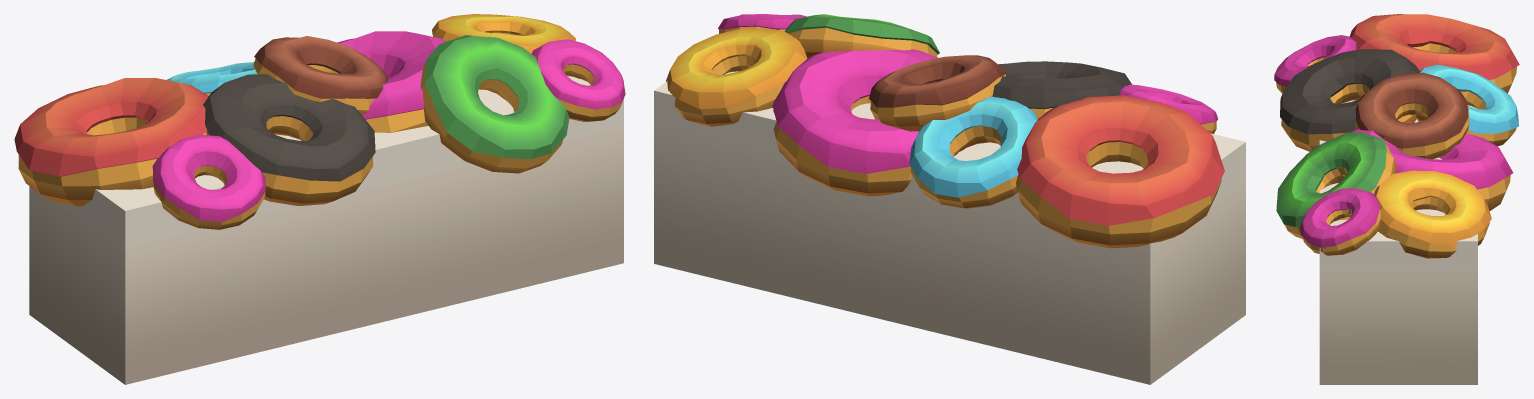
Rendered from itemDonut.fbx.
3 renders of one model, left to right at view 1: azimuth 30°, elevation 25°; view 2: azimuth 150°, elevation 25°; view 3: azimuth 270°, elevation 25°, orthographic. The views are drawn at different scales.
Visible parts, largest first — view 1: ModuleSlot, Donut1, Donut, Donut6, Donut8, Donut7, Donut3, Donut4, Donut5, Donut2; view 2: ModuleSlot, Donut1, Donut3, Donut5, Donut2, Donut7, Donut, Donut6, Donut8, Donut4; view 3: ModuleSlot, Donut, Donut5, Donut1, Donut7, Donut6, Donut4, Donut3, Donut2, Donut8.
Boxes of the visible parts, x1,y1,x2,y2 form: ModuleSlot: (29,76,623,384); Donut1: (14,77,208,206); Donut: (203,74,375,206); Donut6: (420,35,569,173); Donut8: (152,134,265,229); Donut7: (253,36,388,115); Donut3: (337,31,445,132); Donut4: (531,39,625,121); Donut5: (432,14,575,53); Donut2: (167,62,257,95); ModuleSlot: (654,71,1245,384); Donut1: (1016,95,1224,248); Donut3: (772,49,938,196); Donut5: (665,28,807,126); Donut2: (909,96,1037,208); Donut7: (869,55,1006,131); Donut: (992,61,1131,118); Donut6: (785,14,939,57); Donut8: (1119,84,1217,133); Donut4: (718,14,806,33); ModuleSlot: (1319,100,1477,384); Donut: (1280,49,1420,151); Donut5: (1374,170,1491,258); Donut1: (1349,14,1519,93); Donut7: (1355,72,1469,159); Donut6: (1276,132,1396,238); Donut4: (1300,188,1380,255); Donut3: (1351,122,1513,211); Donut2: (1416,64,1518,146); Donut8: (1274,35,1356,93).
Bounding box in the file's own units: 650 × 270 × 310.
